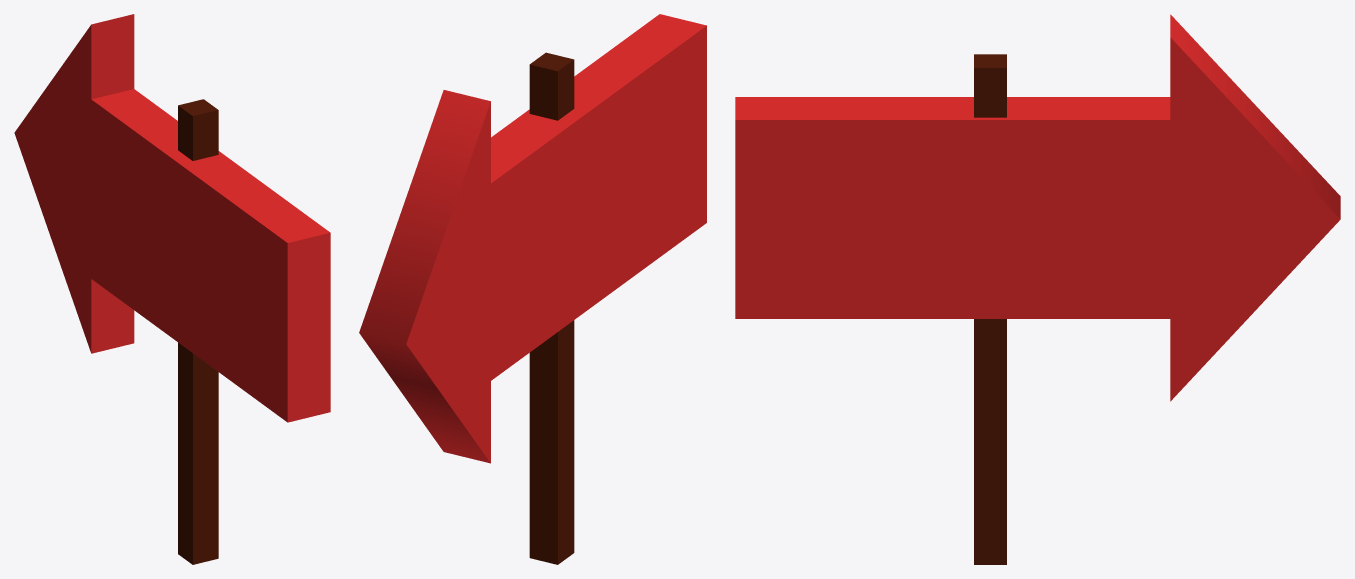
The model's file is ArrowBord.fbx.
3 renders of one model, left to right at view 1: azimuth 30°, elevation 25°; view 2: azimuth 150°, elevation 25°; view 3: azimuth 270°, elevation 25°, orthographic. The views are drawn at different scales.
Parts seen in each view (by area): view 1: Bord, Pole; view 2: Bord, Pole; view 3: Bord, Pole.
Part boxes in pixels (x1=…): Bord: x1=14, y1=14, x2=330, y2=422; Pole: x1=178, y1=99, x2=218, y2=564; Bord: x1=359, y1=14, x2=706, y2=463; Pole: x1=529, y1=52, x2=574, y2=564; Bord: x1=735, y1=14, x2=1340, y2=401; Pole: x1=974, y1=54, x2=1006, y2=564.
Bounding box in the file's own units: 5 × 53.35 × 55.21.
